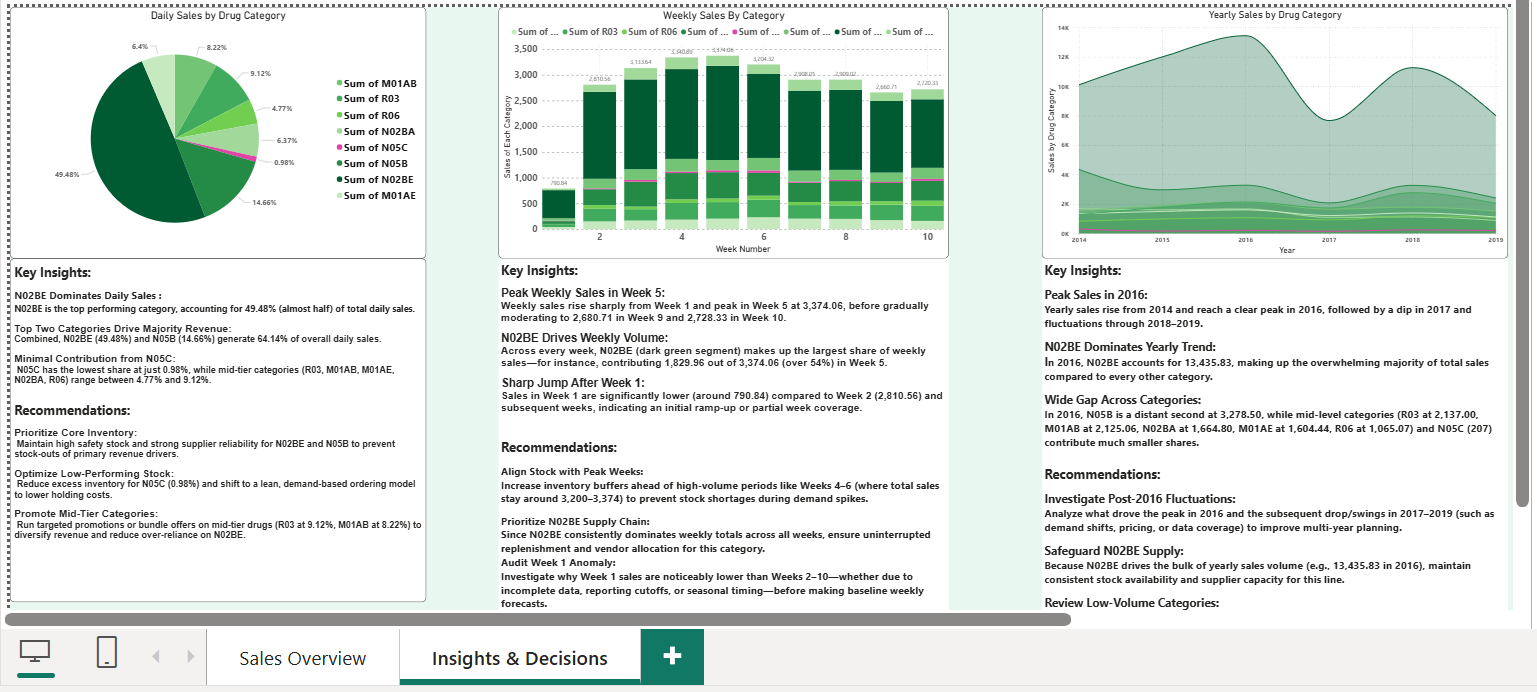

What the dashboard file says about the page in this screenshot:
{"tool":"powerbi","page":{"name":"Insights & Decisions","canvas":[4400,1500],"ordinal":1},"visuals":[{"type":"pieChart","title":"Daily Sales by Drug Category","fields":{"Y":["Sum(sales daily.M01AB)","Sum(sales daily.R03)","Sum(sales daily.R06)","Sum(sales daily.N02BA)","Sum(sales daily.N05C)","Sum(sales daily.N05B)","Sum(sales daily.N02BE)","Sum(sales daily.M01AE)"]},"box":[0,0,860,600],"z":0},{"type":"textbox","box":[0,600,860,630],"z":1000},{"type":"columnChart","title":"Weekly Sales By Category","fields":{"Y":["Sum(sales weekly.M01AE)","Sum(sales weekly.R03)","Sum(sales weekly.R06)","Sum(sales weekly.N05B)","Sum(sales weekly.N05C)","Sum(sales weekly.M01AB)","Sum(sales weekly.N02BE)","Sum(sales weekly.N02BA)"],"Category":["sales weekly.Week Num"]},"box":[1325,5,1105,595],"z":2000},{"type":"textbox","box":[1325,595,1105,720],"z":2001},{"type":"areaChart","title":"Yearly Sales by Drug Category","fields":{"Category":["sales monthly.Date.Variation.Date Hierarchy.Year"],"Y":["Sum(sales monthly.N05C)","Sum(sales monthly.N02BA)","Sum(sales monthly.R06)","Sum(sales monthly.M01AB)","Sum(sales monthly.M01AE)","Sum(sales monthly.R03)","Sum(sales monthly.N02BE)","Sum(sales monthly.N05B)"]},"box":[2935,5,1135,590],"z":2002},{"type":"textbox","box":[2935,595,1135,790],"z":2003}]}

Visuals, with their boxes on the page's 4400x1500 design canvas (x1, y1, x2, y2). These are canvas units, not pixel positions in the 1537x692 screenshot, which may show the page scaled, cropped or inside an application window:
"Daily Sales by Drug Category" pieChart: l=0, t=0, r=860, b=600
textbox: l=0, t=600, r=860, b=1230
"Weekly Sales By Category" columnChart: l=1325, t=5, r=2430, b=600
textbox: l=1325, t=595, r=2430, b=1315
"Yearly Sales by Drug Category" areaChart: l=2935, t=5, r=4070, b=595
textbox: l=2935, t=595, r=4070, b=1385
